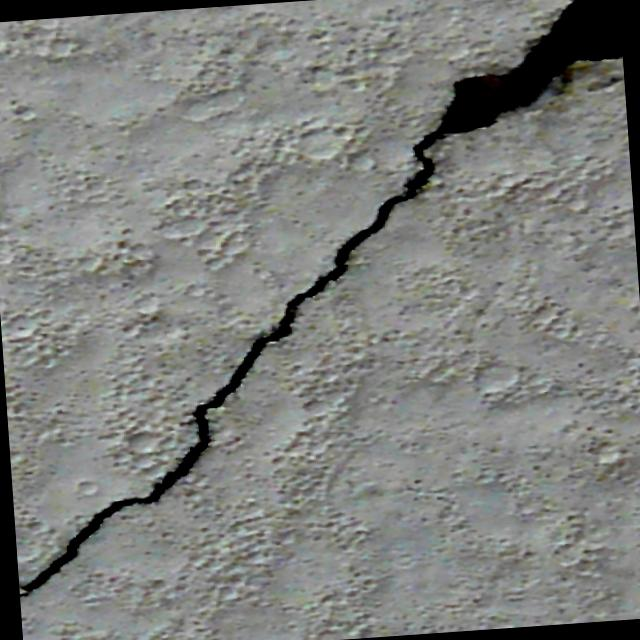crack: (0, 131, 459, 596)
spall: (413, 0, 625, 135)
